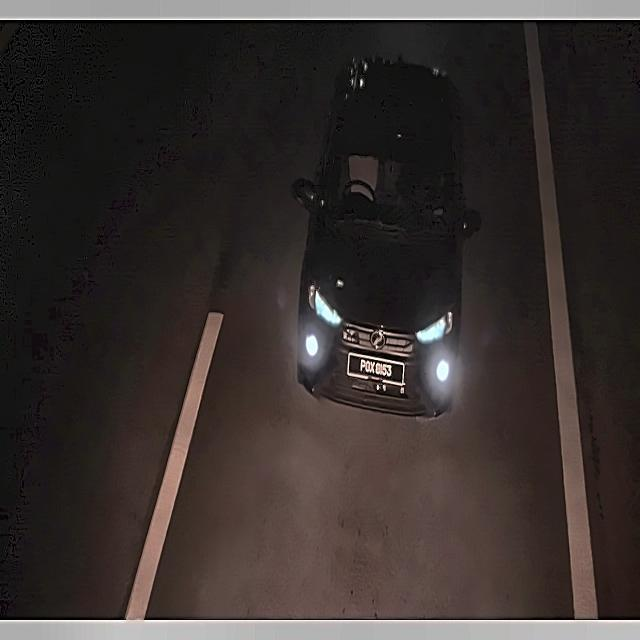car: (344, 346, 411, 391)
